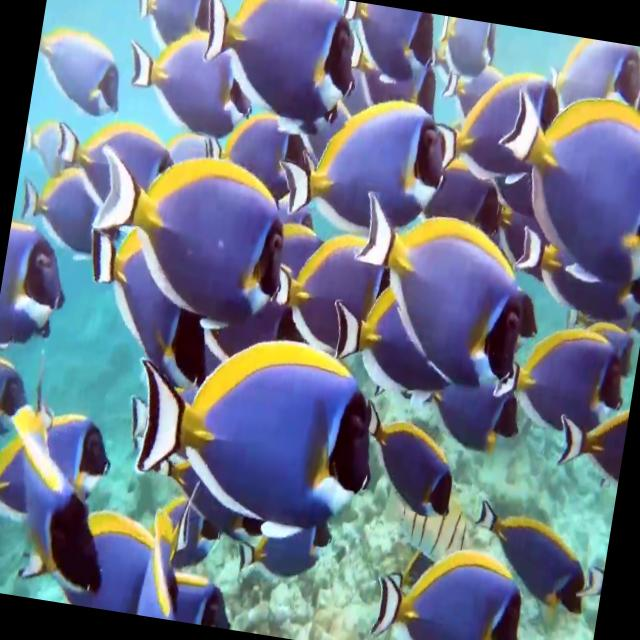fish: (124, 319, 388, 552), (78, 143, 300, 334), (337, 197, 534, 396), (489, 83, 640, 302), (276, 81, 452, 236), (0, 396, 125, 605), (188, 0, 363, 146), (76, 223, 202, 391), (429, 61, 562, 191), (0, 397, 120, 540), (464, 496, 596, 622), (368, 540, 529, 640), (121, 18, 249, 142), (350, 403, 466, 524), (490, 318, 612, 430), (540, 34, 640, 145), (13, 165, 123, 262), (332, 0, 447, 87), (0, 222, 77, 349), (29, 26, 128, 122), (129, 0, 219, 55)
